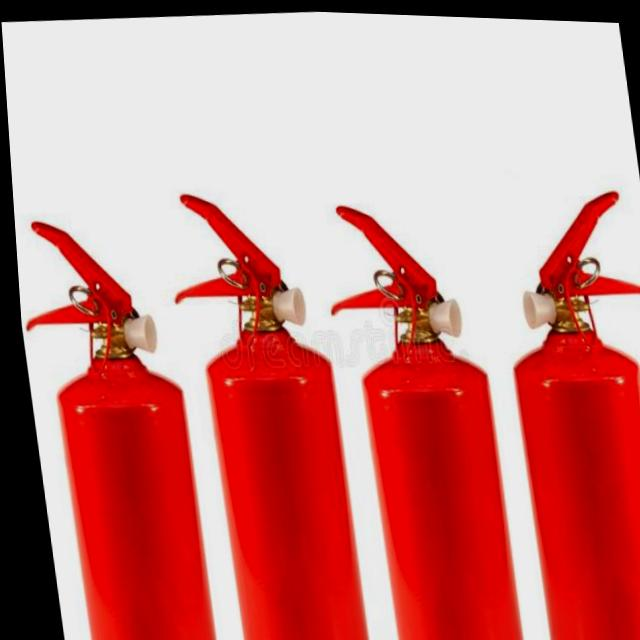FireExtinguisher: (148, 175, 368, 640), (308, 185, 526, 640), (11, 203, 216, 640), (476, 172, 640, 640)
